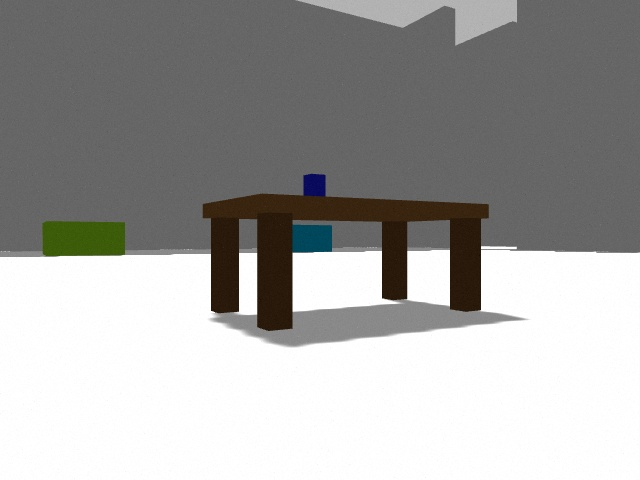blue_cube: (303, 174, 326, 196)
blue_drop_zone: (293, 225, 332, 252)
green_drop_zone: (42, 221, 125, 256)
